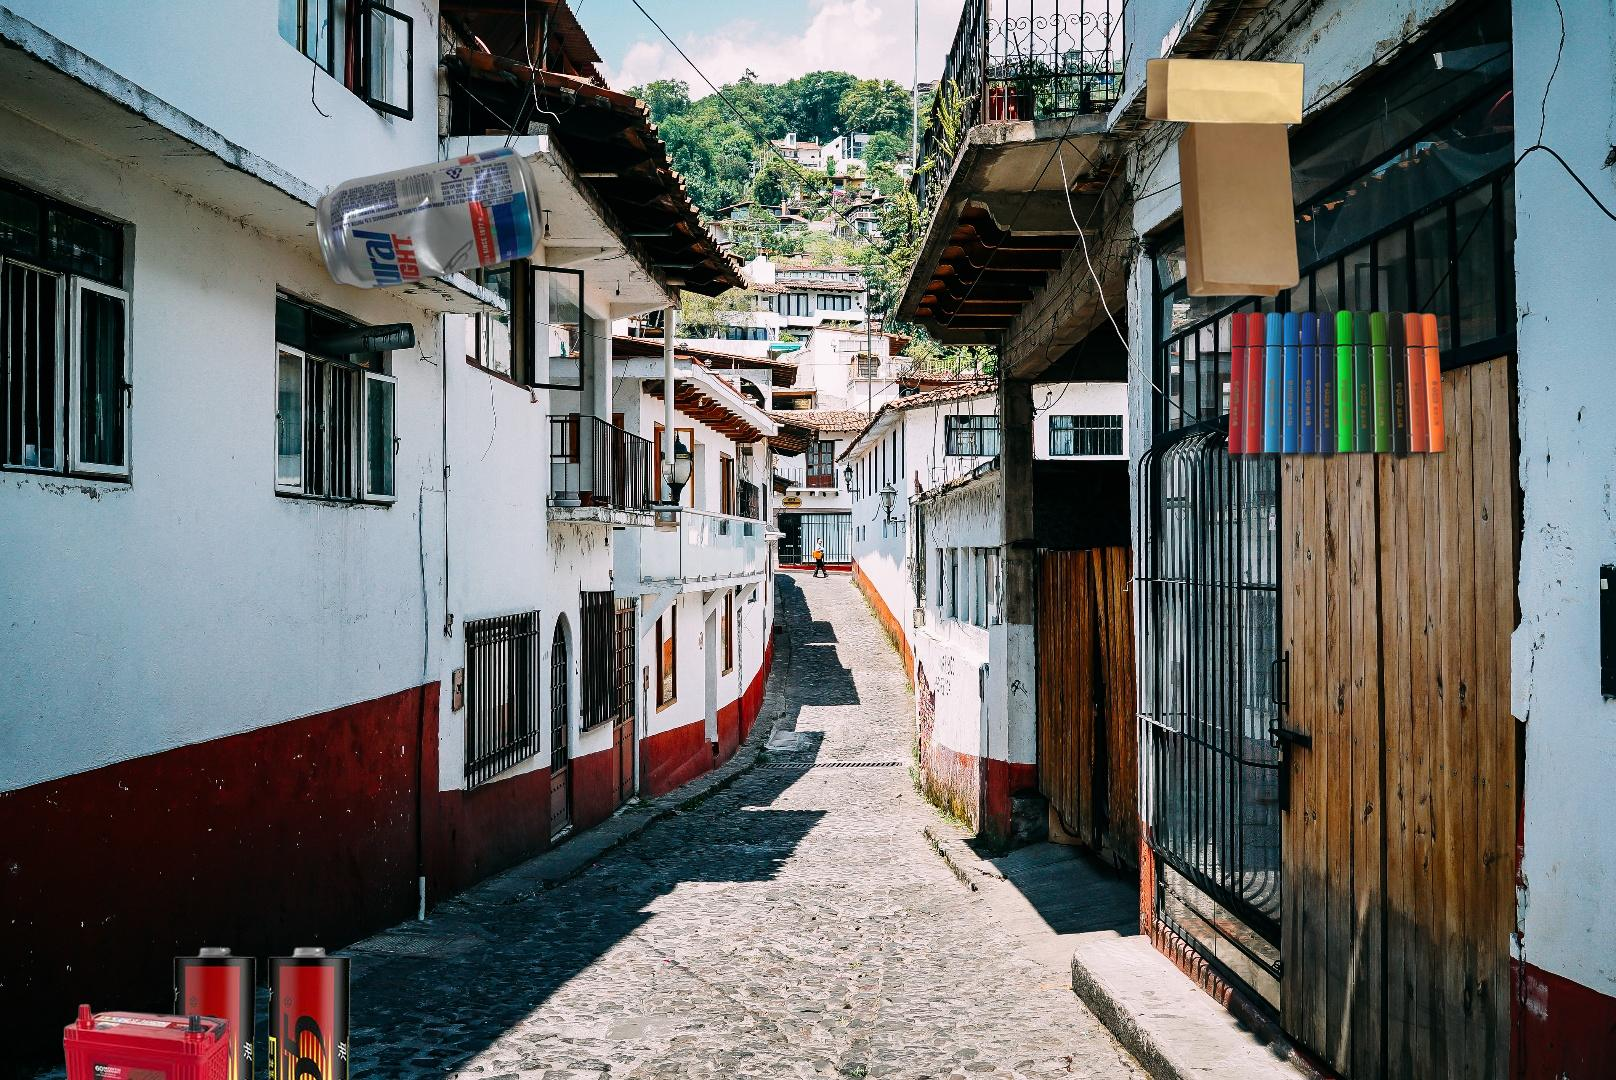battery: (170, 943, 355, 1080), (39, 987, 249, 1080)
metal-cans: (311, 145, 547, 293)
paper-bag: (1144, 55, 1308, 301)
penholder: (1226, 307, 1448, 589)
